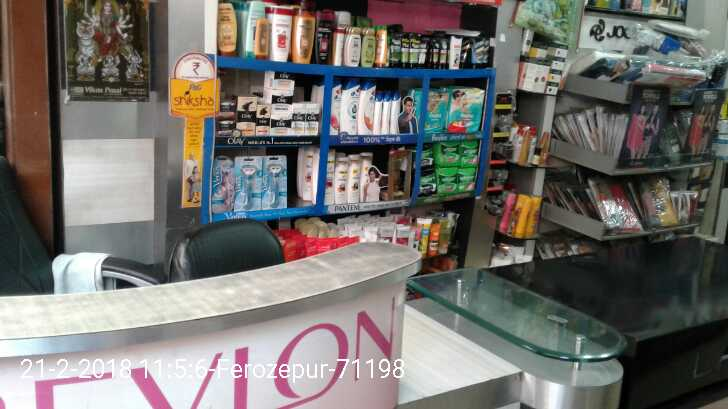venus: (235, 157, 264, 209), (264, 155, 288, 209), (213, 157, 235, 212)
